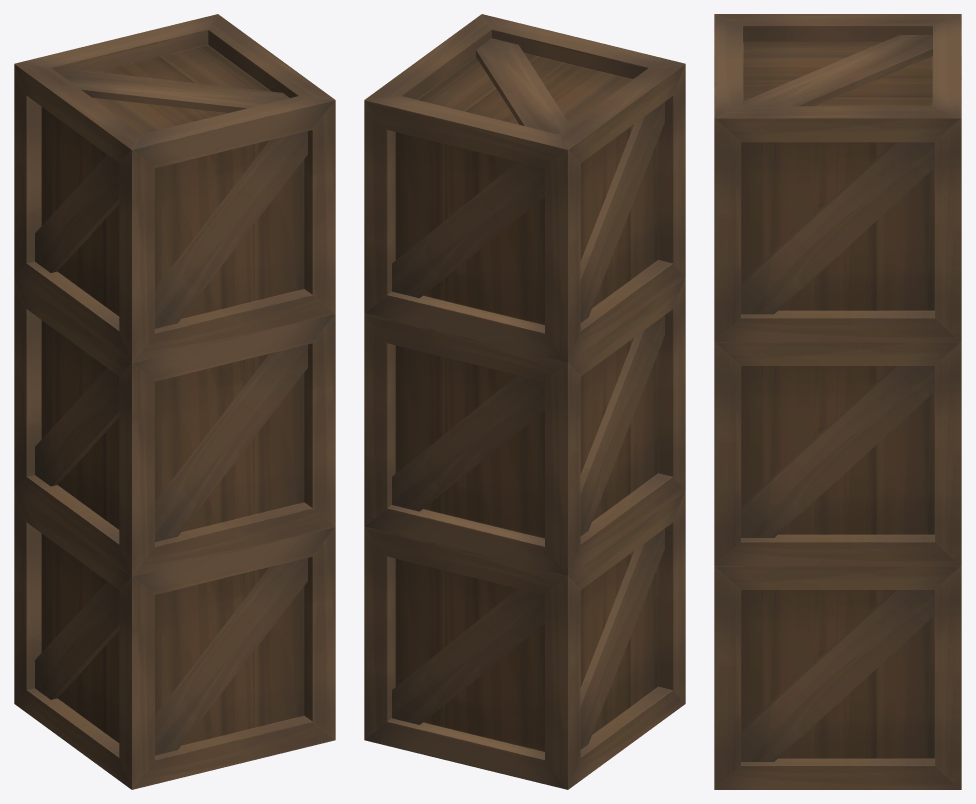
Rendered from threeBoxes.fbx.
The picture shows the model from 3 angles, left to right: view 1: azimuth 30°, elevation 25°; view 2: azimuth 150°, elevation 25°; view 3: azimuth 270°, elevation 25°; orthographic projection. The views are drawn at different scales.
Parts seen in each view (by area): view 1: pCube16; view 2: pCube16; view 3: pCube16.
Part boxes in pixels (x1=…): pCube16: x1=14, y1=14, x2=335, y2=789; pCube16: x1=364, y1=14, x2=685, y2=789; pCube16: x1=714, y1=14, x2=961, y2=789.
Size of the model in its own units: 212 by 635 by 212.
